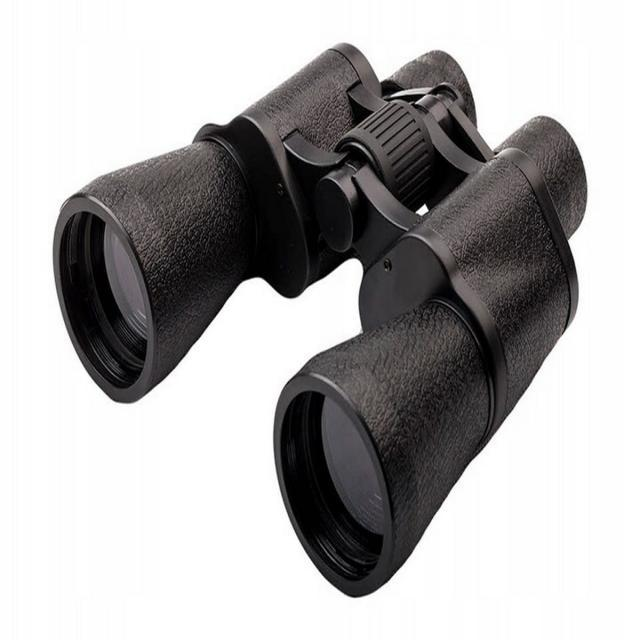Binocular: (31, 29, 600, 599)
